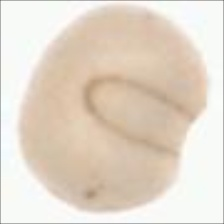L5: (82, 74, 196, 159)
L6: (13, 2, 210, 214)
